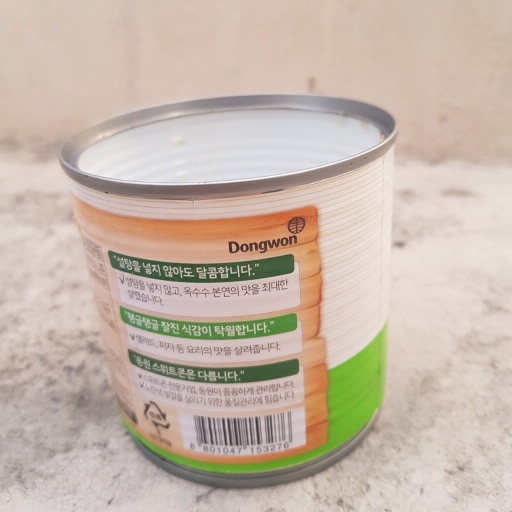Metal_1: (61, 92, 401, 486)
